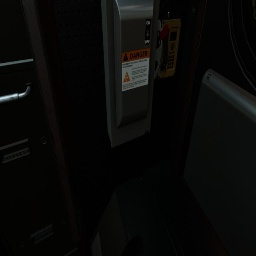EmergencyPhone ,: (155, 1, 181, 79)
SafetySwitchPanel ,: (101, 0, 168, 148)
